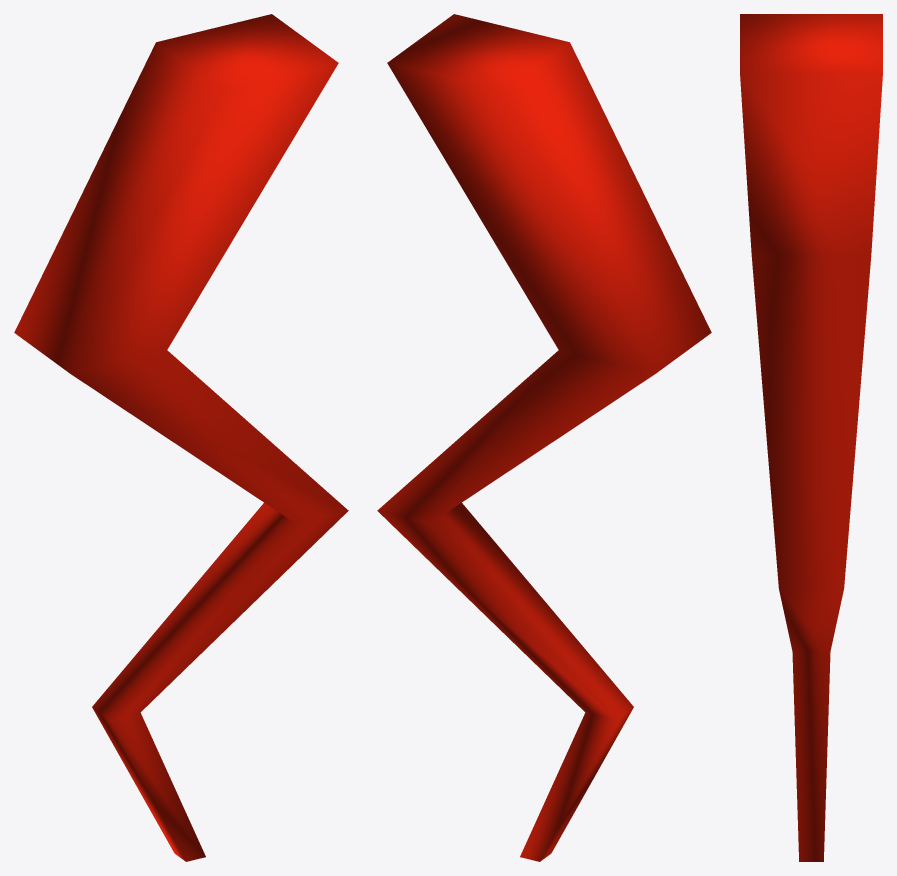
The model's file is flash.fbx.
3 renders of one model, left to right at view 1: azimuth 30°, elevation 25°; view 2: azimuth 150°, elevation 25°; view 3: azimuth 270°, elevation 25°, orthographic. The views are drawn at different scales.
Parts seen in each view (by area): view 1: Flash; view 2: Flash; view 3: Flash.
Part boxes in pixels (x1,y1,x2,y2): Flash: (14,14,348,861); Flash: (377,14,711,861); Flash: (740,14,882,861).
Bounding box in the file's own units: 149 × 385 × 59.16.
